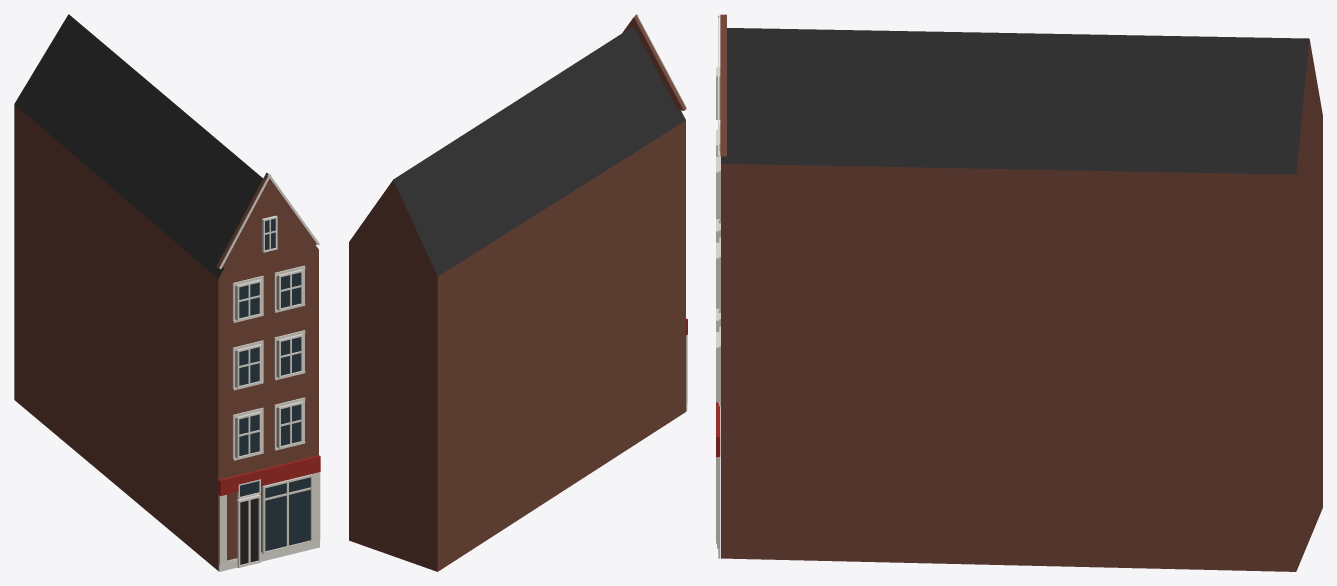
3 views of the same model, side by side, from view 1: azimuth 30°, elevation 25°; view 2: azimuth 150°, elevation 25°; view 3: azimuth 270°, elevation 25° (orthographic). The views are drawn at different scales.
Parts seen in each view (by area): view 1: spec-0363100012171641; view 2: spec-0363100012171641; view 3: spec-0363100012171641.
Part boxes in pixels (x1=…): spec-0363100012171641: x1=14, y1=14, x2=320, y2=571; spec-0363100012171641: x1=349, y1=14, x2=687, y2=571; spec-0363100012171641: x1=716, y1=14, x2=1322, y2=571.
Bounding box in the file's own units: 5.1 × 15.51 × 16.65.
